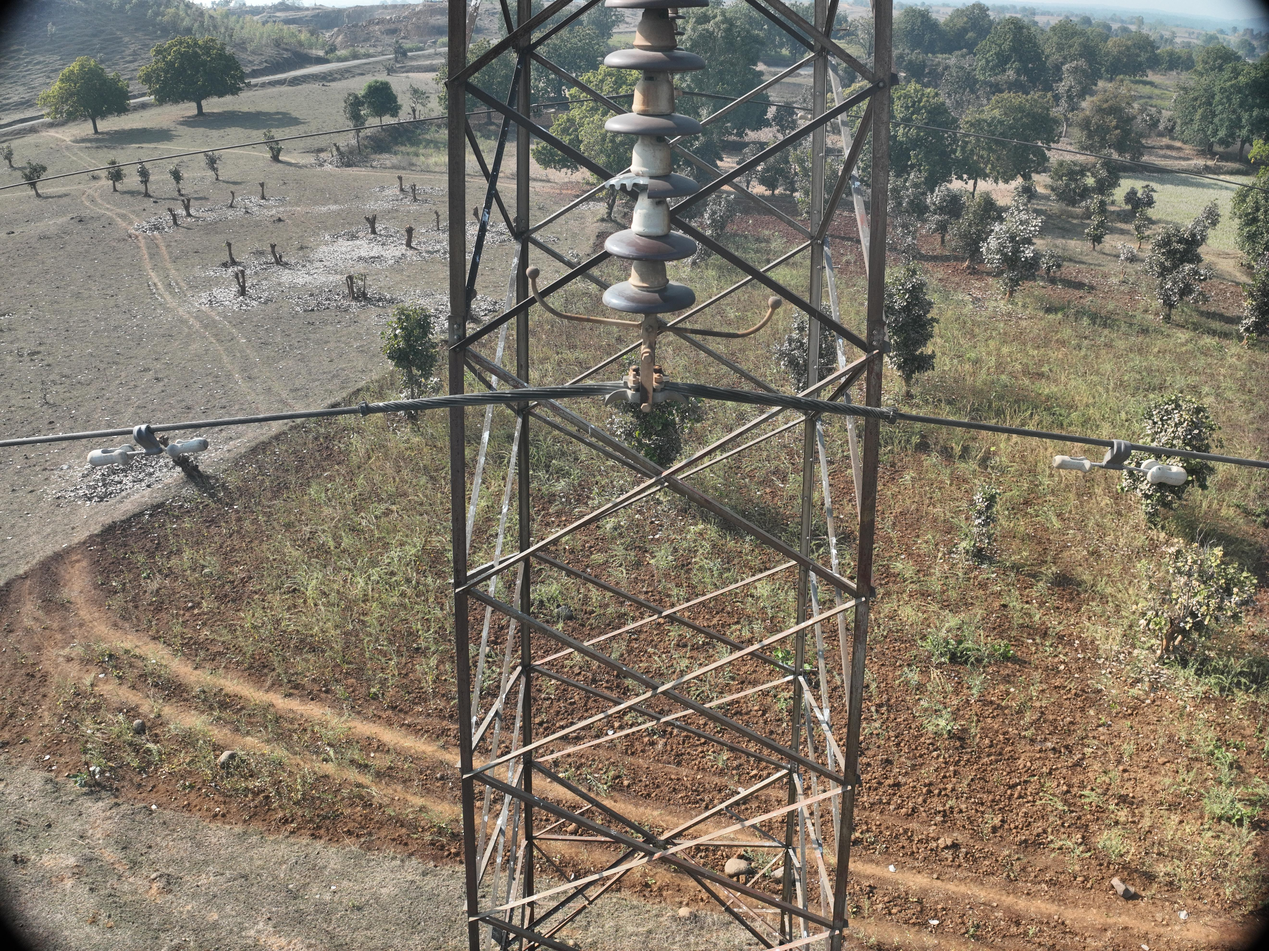broken_insulator: (599, 165, 707, 212)
